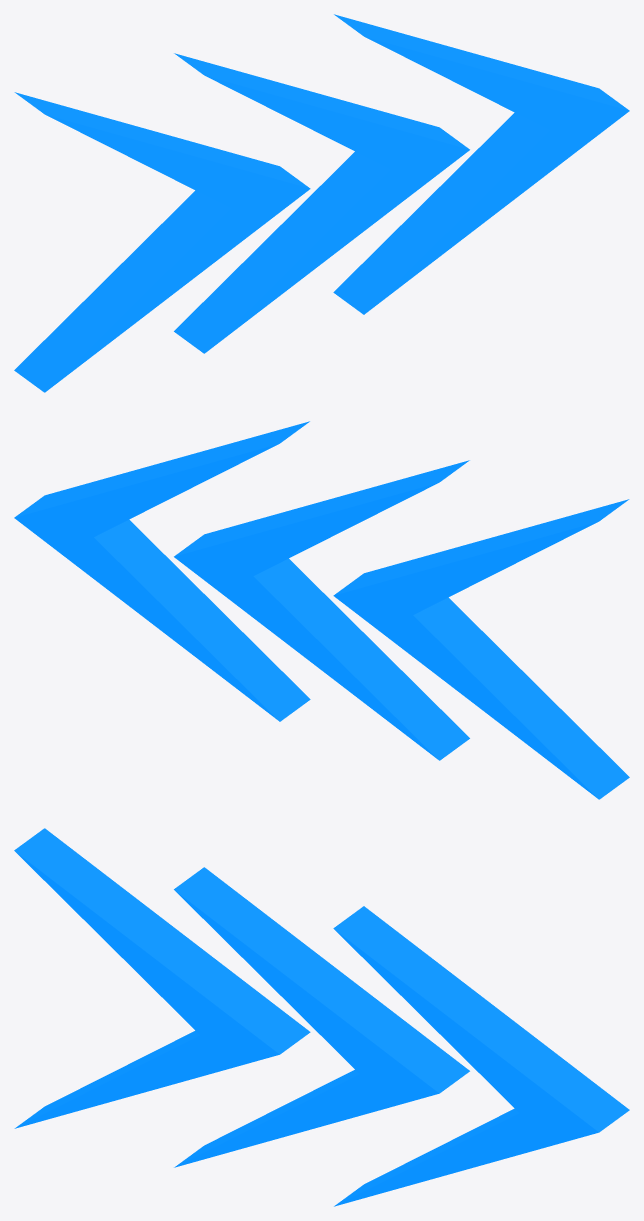
Rendered from speedbonus2.glb.
The picture shows the model from 3 angles, top to bottom: view 1: azimuth 30°, elevation 25°; view 2: azimuth 150°, elevation 25°; view 3: azimuth 330°, elevation 25°; orthographic projection.
Parts seen in each view (by area): view 1: SpeedBoost_Bonus; view 2: SpeedBoost_Bonus; view 3: SpeedBoost_Bonus.
Boxes of the visible parts, x1,y1,x2,y2 form: SpeedBoost_Bonus: (14,14,629,392); SpeedBoost_Bonus: (14,421,629,799); SpeedBoost_Bonus: (14,828,629,1206).
Size of the model in its own units: 2.2 by 1 by 0.2.
